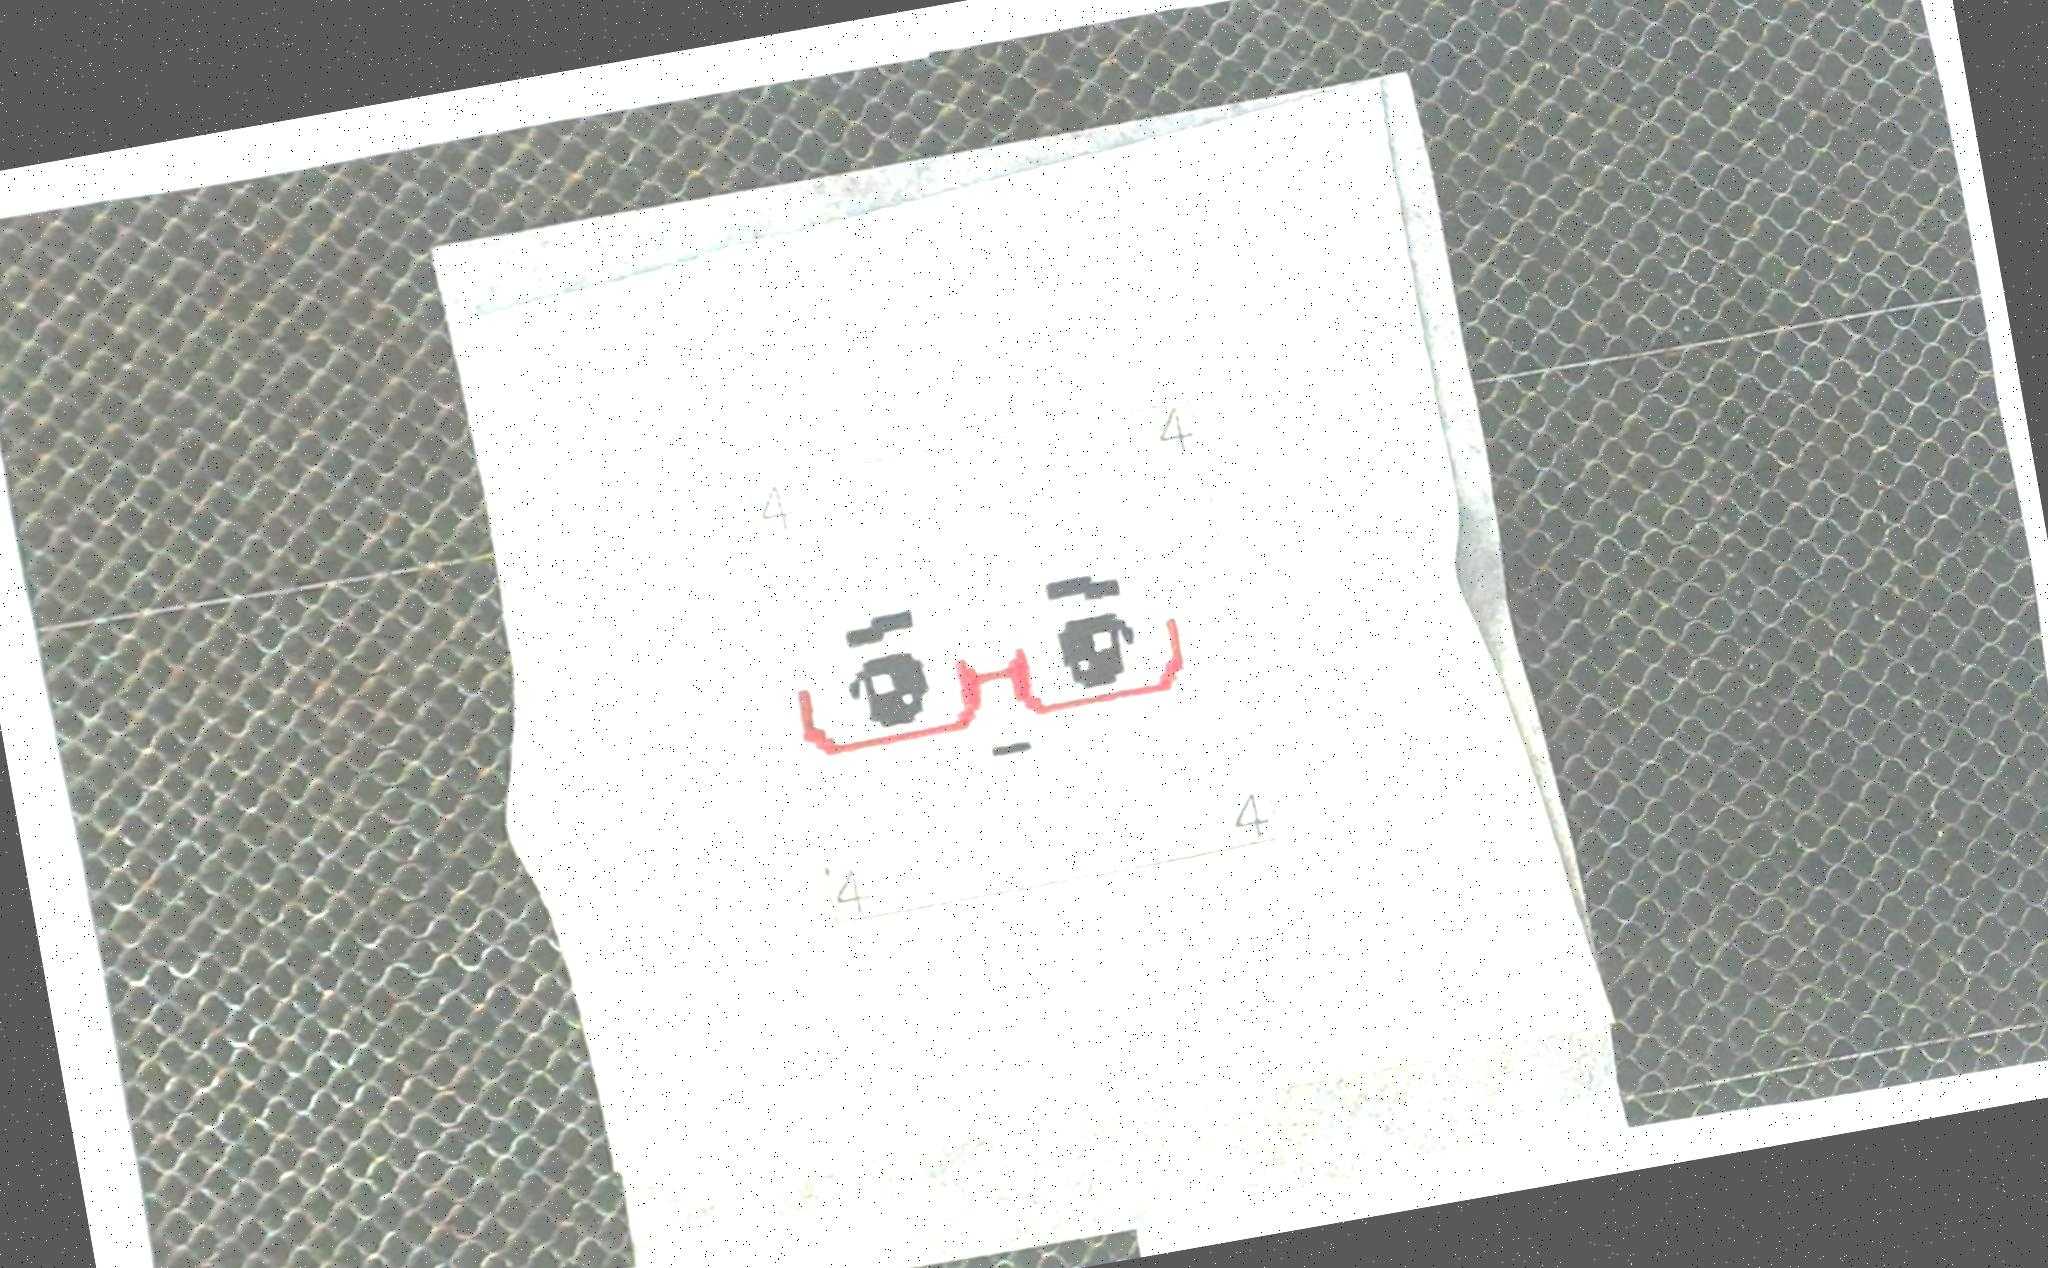objects: (358, 16, 1691, 1268)
